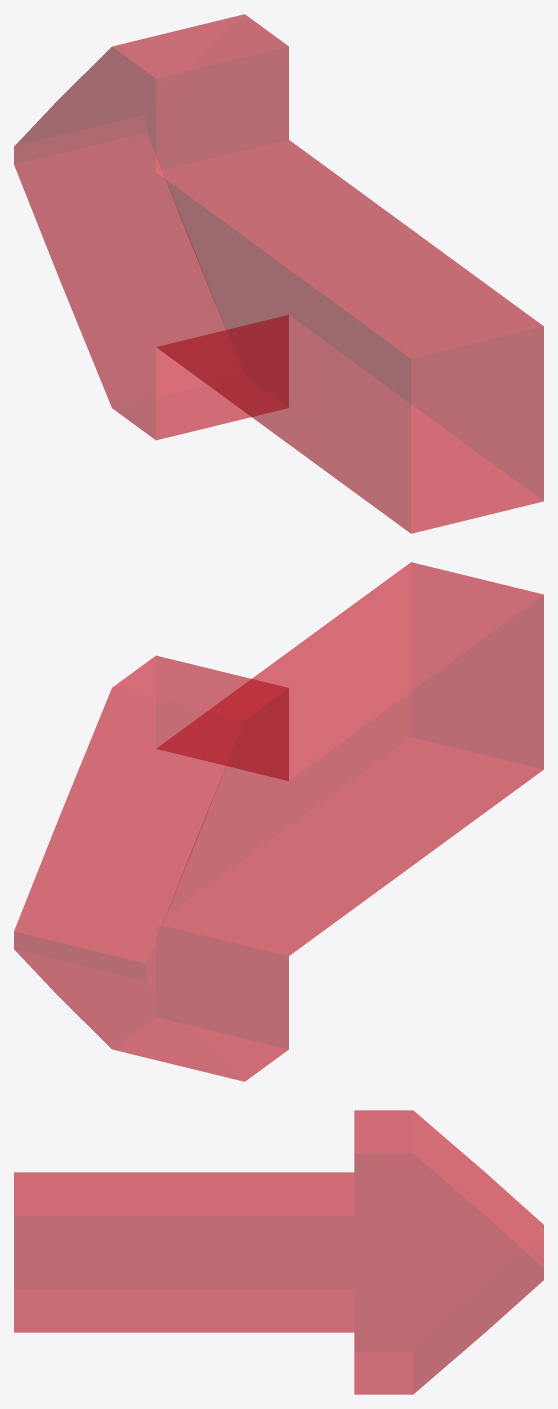
The model's file is SetaLado.glb.
The picture shows the model from 3 angles, top to bottom: view 1: azimuth 30°, elevation 25°; view 2: azimuth 150°, elevation 25°; view 3: azimuth 270°, elevation 25°; orthographic projection. The views are drawn at different scales.
Visible parts, largest first — view 1: ArrowSide; view 2: ArrowSide; view 3: ArrowSide.
Part boxes in pixels (x1=…): ArrowSide: x1=14, y1=14, x2=543, y2=533; ArrowSide: x1=14, y1=562, x2=543, y2=1081; ArrowSide: x1=14, y1=1110, x2=543, y2=1394.
Size of the model in its own units: 0.1399 by 0.364 by 0.7245.
